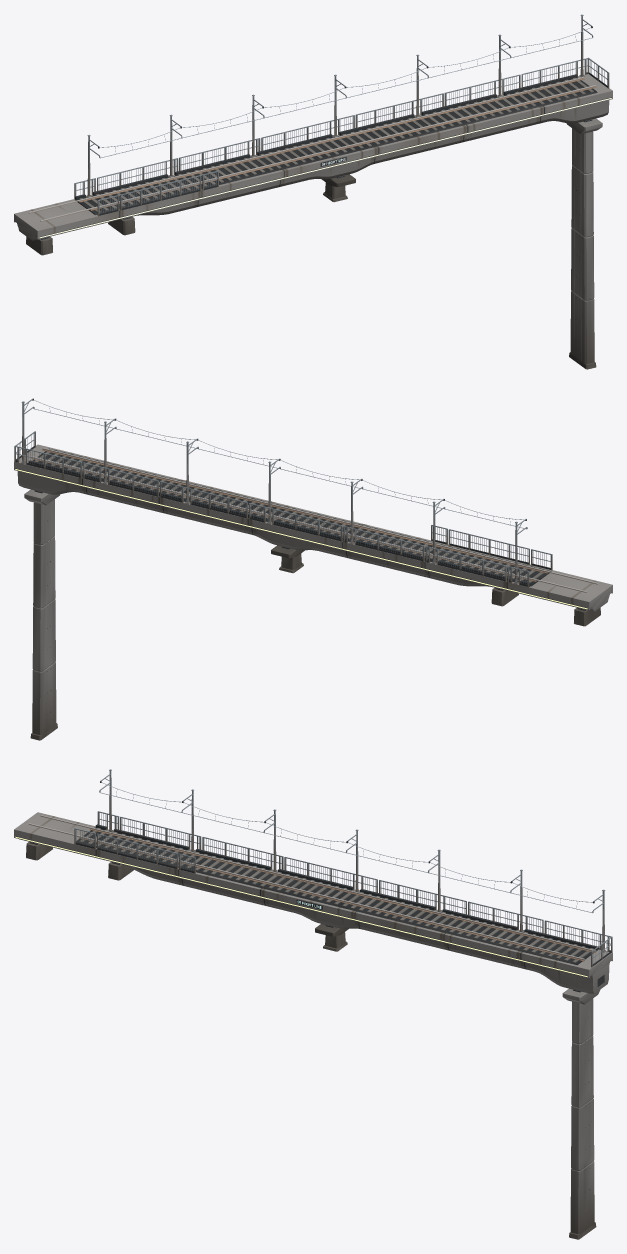
File: viaduct221b.glb
3 renders of one model, top to bottom at view 1: azimuth 30°, elevation 25°; view 2: azimuth 150°, elevation 25°; view 3: azimuth 330°, elevation 25°, orthographic.
Visible parts, largest first — view 1: v221-concrete, v221-dark, v221-steel, v221-rail, v221-led; view 2: v221-concrete, v221-steel, v221-dark, v221-rail, v221-led; view 3: v221-concrete, v221-dark, v221-steel, v221-rail, v221-led.
Boxes of the visible parts, left/top/right/bottom form: v221-concrete: left=14, top=74, right=612, bottom=369; v221-dark: left=39, top=26, right=611, bottom=343; v221-steel: left=42, top=14, right=609, bottom=238; v221-rail: left=28, top=76, right=596, bottom=221; v221-led: left=39, top=98, right=611, bottom=238; v221-concrete: left=14, top=444, right=612, bottom=740; v221-steel: left=14, top=398, right=584, bottom=609; v221-dark: left=15, top=398, right=587, bottom=714; v221-rail: left=31, top=448, right=597, bottom=592; v221-led: left=15, top=469, right=587, bottom=609; v221-concrete: left=14, top=812, right=612, bottom=1239; v221-dark: left=15, top=781, right=611, bottom=1213; v221-steel: left=30, top=769, right=612, bottom=991; v221-rail: left=29, top=815, right=596, bottom=961; v221-led: left=15, top=836, right=587, bottom=977.
Bounding box in the file's own units: 42 × 23.47 × 3.05.
